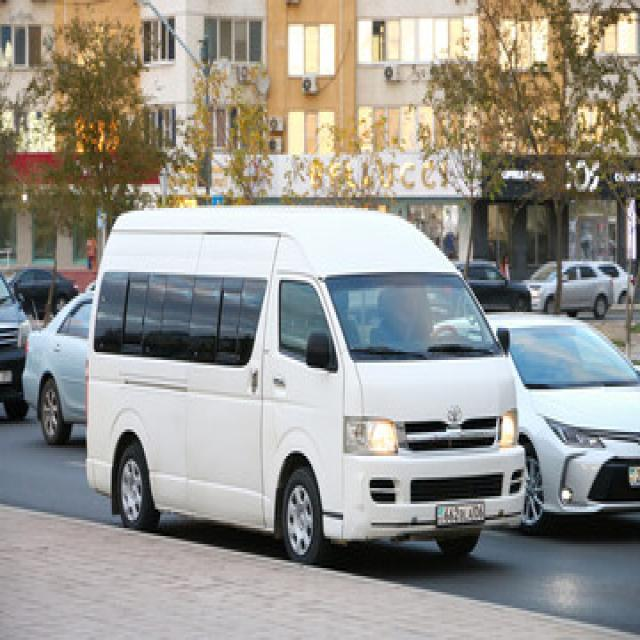car: (491, 315, 638, 531), (23, 291, 91, 443), (457, 261, 528, 309), (596, 261, 626, 304)
van: (85, 208, 523, 560), (526, 261, 612, 317), (0, 275, 28, 419)
